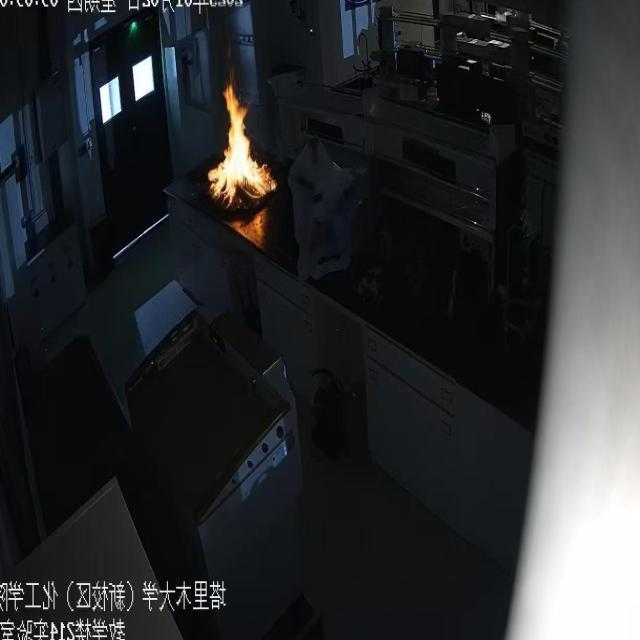smoke: (208, 72, 279, 210)
